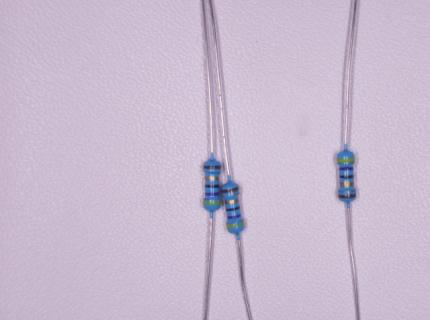Black band: (226, 206, 240, 213), (339, 174, 354, 179), (204, 184, 220, 188)
Brown band: (221, 187, 240, 194), (203, 165, 222, 170), (338, 194, 357, 199)
Gold band: (225, 199, 239, 205), (205, 176, 220, 181), (340, 182, 355, 187)
Violet band: (227, 213, 242, 219), (339, 166, 354, 171), (205, 192, 219, 196)
Yellow band: (226, 222, 245, 229), (337, 158, 355, 163), (203, 201, 222, 205)
